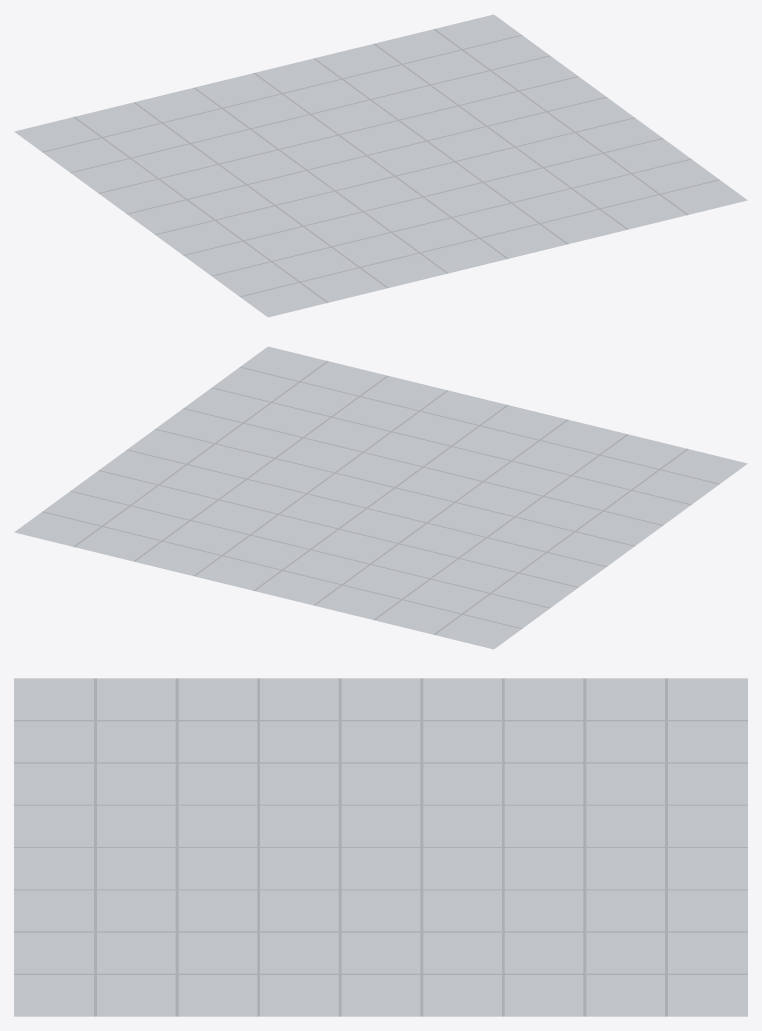
File: Floor.fbx
The picture shows the model from 3 angles, top to bottom: view 1: azimuth 30°, elevation 25°; view 2: azimuth 150°, elevation 25°; view 3: azimuth 270°, elevation 25°; orthographic projection. The views are drawn at different scales.
Parts seen in each view (by area): view 1: Floor; view 2: Floor; view 3: Floor.
Part boxes in pixels (left/top/right/bottom): Floor: left=14, top=14, right=747, bottom=317; Floor: left=14, top=346, right=747, bottom=649; Floor: left=14, top=678, right=747, bottom=1016.
Bounding box in the file's own units: 5.4 × 1.91e-14 × 4.95.
